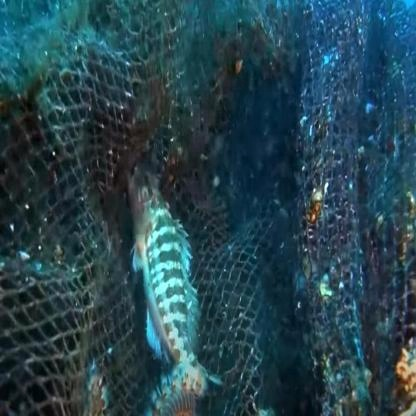net: (9, 50, 410, 346)
